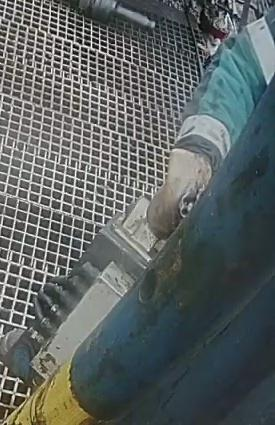gloves: (145, 139, 215, 239)
